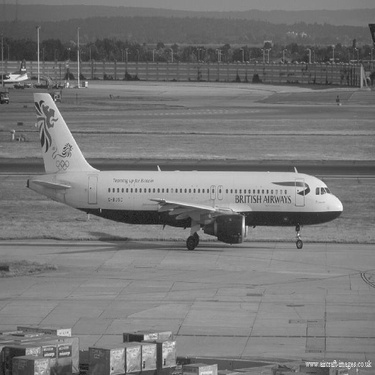airplane: (3, 71, 343, 258)
